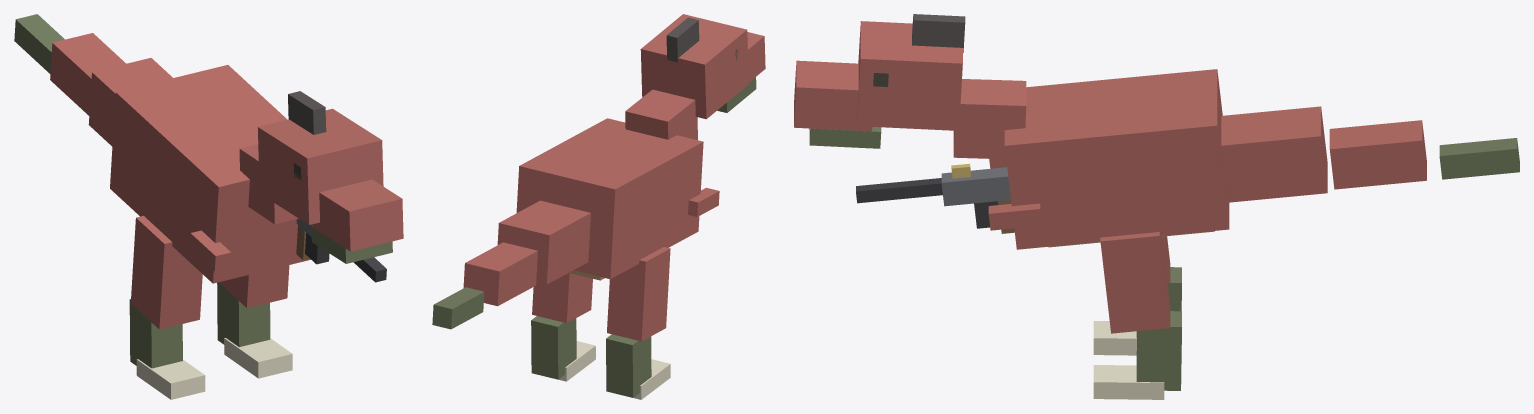
The model's file is enemy.glb.
3 renders of one model, left to right at view 1: azimuth 30°, elevation 25°; view 2: azimuth 150°, elevation 25°; view 3: azimuth 270°, elevation 25°, orthographic. The views are drawn at different scales.
Visible parts, largest first — view 1: EnemyBody, EnemySkull, EnemyThighMeshL, EnemySnout, EnemyTail2, EnemyTail1, EnemyShinMeshR, EnemyShinMeshL, EnemyFootL, EnemyThighMeshR, EnemyFootR, EnemyTail3 (+6 smaller); view 2: EnemyBody, EnemySkull, EnemyTail1, EnemyThighMeshL, EnemyTail2, EnemyNeckMesh, EnemyShinMeshR, EnemyShinMeshL, EnemyThighMeshR, EnemyTail3, EnemyCrest, EnemySnout (+4 smaller); view 3: EnemyBody, EnemySkull, EnemyTail1, EnemyThighMeshR, EnemyTail2, EnemyNeckMesh, EnemySnout, EnemyTail3, EnemyShinMeshR, EnemyGunReceiver, EnemyFootR, EnemyCrest (+4 smaller).
Part boxes in pixels (x1,y1,x2,y2): EnemyBody: (110, 65, 310, 283); EnemySkull: (257, 108, 383, 224); EnemyThighMeshL: (130, 215, 202, 329); EnemySnout: (312, 179, 403, 251); EnemyTail2: (50, 33, 125, 115); EnemyTail1: (88, 58, 172, 146); EnemyShinMeshR: (217, 282, 270, 347); EnemyShinMeshL: (129, 299, 182, 368); EnemyFootL: (136, 359, 205, 399); EnemyThighMeshR: (219, 265, 289, 307); EnemyFootR: (224, 338, 292, 378); EnemyTail3: (14, 14, 64, 73); EnemyBody: (516, 118, 703, 279); EnemySkull: (640, 14, 748, 119); EnemyTail1: (497, 200, 590, 284); EnemyThighMeshL: (607, 247, 670, 341); EnemyTail2: (463, 242, 537, 306); EnemyNeckMesh: (625, 89, 697, 140); EnemyShinMeshR: (531, 316, 576, 379); EnemyShinMeshL: (606, 334, 651, 397); EnemyThighMeshR: (532, 273, 592, 323); EnemyTail3: (432, 287, 484, 329); EnemyCrest: (666, 17, 699, 62); EnemySnout: (747, 32, 765, 82); EnemyBody: (1004, 69, 1229, 249); EnemySkull: (857, 21, 962, 130); EnemyTail1: (1221, 106, 1327, 202); EnemyThighMeshR: (1100, 232, 1170, 333); EnemyTail2: (1329, 120, 1426, 189); EnemyNeckMesh: (953, 79, 1026, 159); EnemySnout: (794, 60, 872, 131); EnemyTail3: (1439, 138, 1519, 179); EnemyShinMeshR: (1136, 311, 1181, 390); EnemyGunReceiver: (941, 167, 1010, 206); EnemyFootR: (1093, 365, 1164, 399); EnemyCrest: (912, 14, 965, 52).
Bounding box in the file's own units: 0.86 × 2.09 × 3.9.
